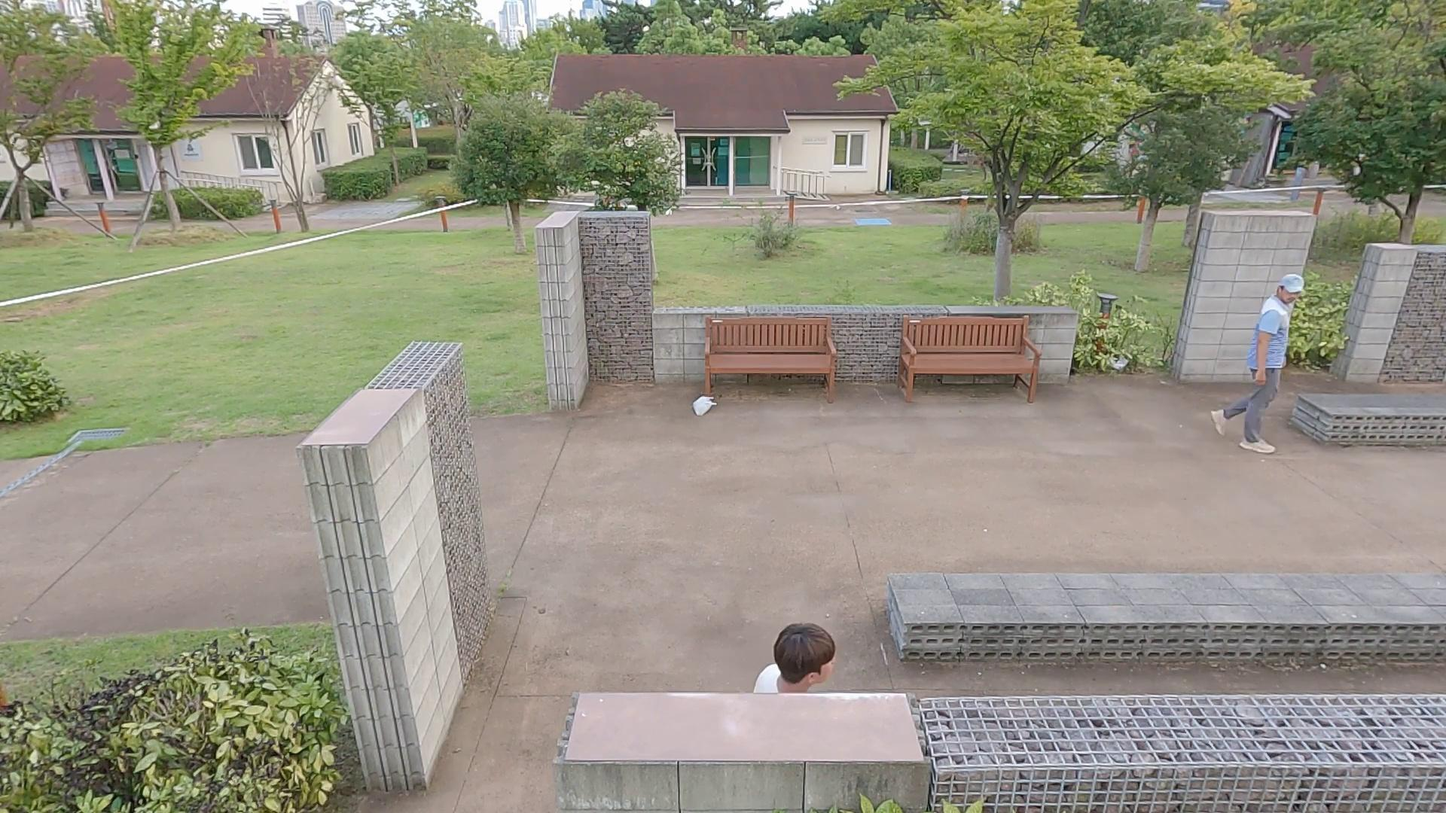person: (1205, 269, 1312, 461), (734, 616, 848, 697)
trash: (680, 385, 722, 424), (1105, 350, 1133, 378)
